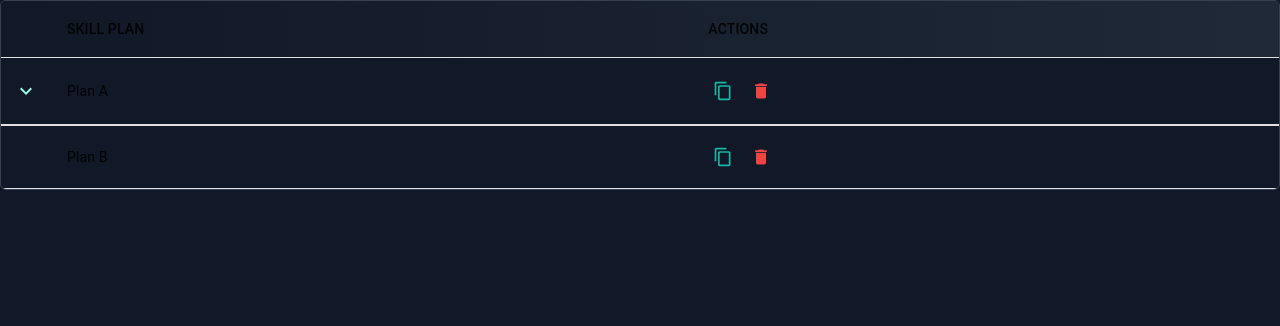
Test: SkillPlanTable › renders skill plans and allows expansion
Expected: the text "Plan A" is shown, [51,58,692,124]
Expected: the text "Plan B" is shown, [51,126,692,188]
# Expand Plan A
Click the button named "expand": (26, 91) [9,74,43,108]
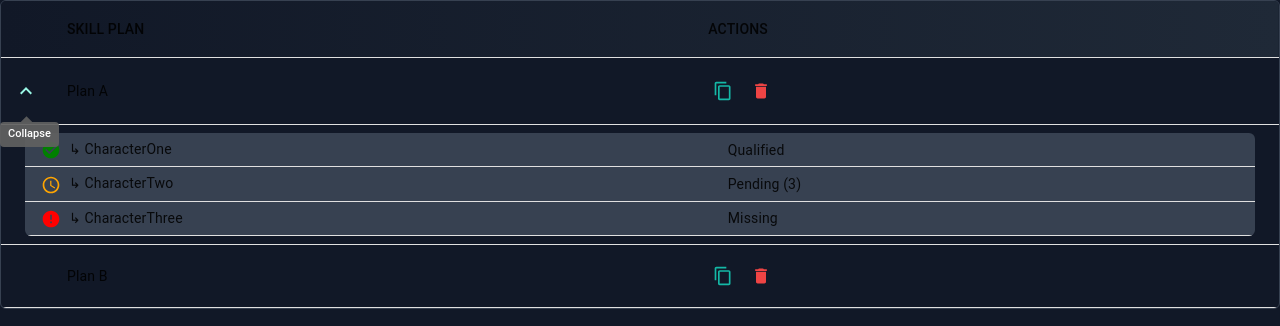
Result: the text "↳ CharacterOne" is shown at [69,141,172,157]
Result: the text "↳ CharacterTwo" is shown at [69,175,173,191]
Result: the text "↳ CharacterThree" is shown at [69,210,183,226]
